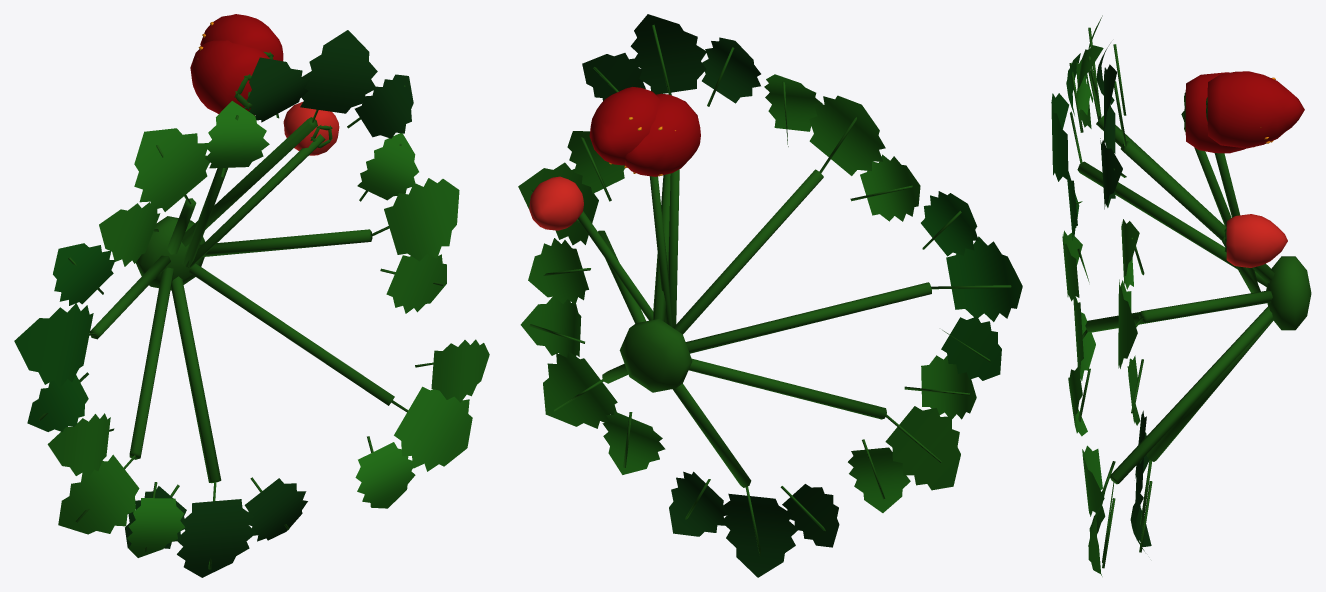
The model's file is plant_variant_14.obj.
3 views of the same model, side by side, from view 1: azimuth 30°, elevation 25°; view 2: azimuth 150°, elevation 25°; view 3: azimuth 270°, elevation 25° (orthographic). The views are drawn at different scales.
Parts seen in each view (by area): view 1: field_export_plant_variant_14; view 2: field_export_plant_variant_14; view 3: field_export_plant_variant_14.
Part boxes in pixels (x1,y1,x2,y2): field_export_plant_variant_14: [14, 14, 489, 577]; field_export_plant_variant_14: [518, 14, 1022, 577]; field_export_plant_variant_14: [1051, 15, 1311, 576].
Size of the model in its own units: 0.6298 by 0.6459 by 0.283.
